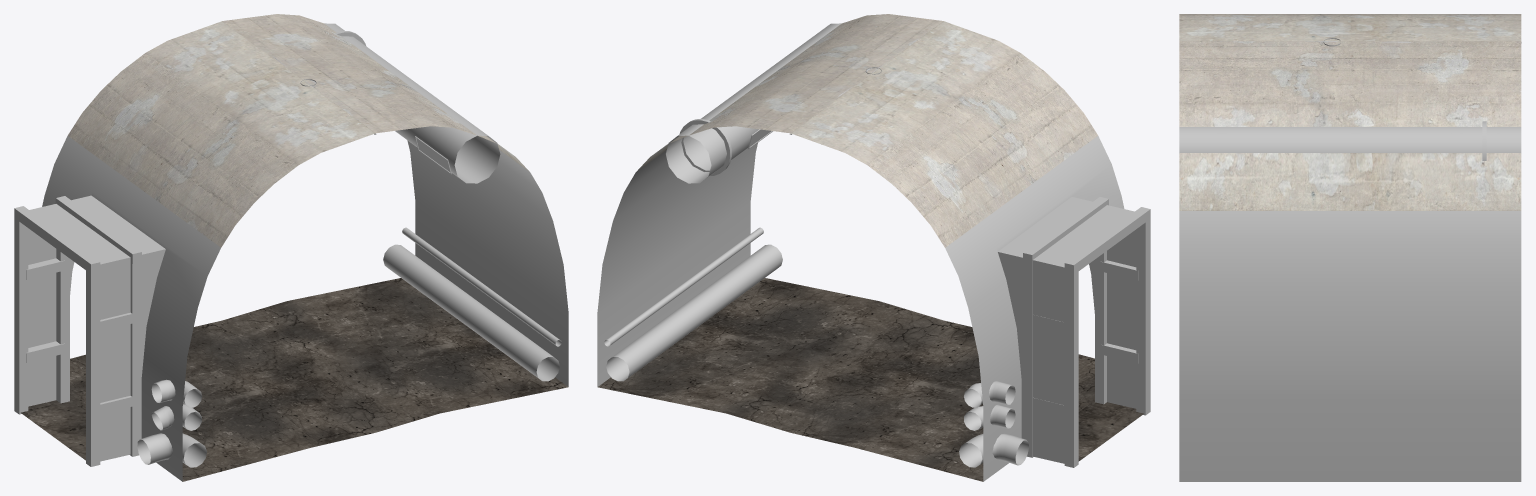
Rendered from Corridor_wal_door_R.FBX.
3 renders of one model, left to right at view 1: azimuth 30°, elevation 25°; view 2: azimuth 150°, elevation 25°; view 3: azimuth 270°, elevation 25°, orthographic. The views are drawn at different scales.
Visible parts, largest first — view 1: Corridor_wall_door_R, Corridor_floor_door_R, Door_plank_corridor, Tube020, Tube_big_vent003, Object014, Object015, Tube_paint013; view 2: Corridor_wall_door_R, Corridor_floor_door_R, Door_plank_corridor, Tube020, Tube_big_vent003, Object012, Object013, Tube_paint013; view 3: Corridor_wall_door_R, Tube_big_vent003.
Boxes of the visible parts, x1,y1,x2,y2 form: Corridor_wall_door_R: (28, 14, 568, 481); Corridor_floor_door_R: (21, 278, 568, 481); Door_plank_corridor: (14, 196, 141, 466); Tube020: (383, 244, 559, 381); Tube_big_vent003: (324, 23, 500, 183); Object014: (151, 379, 202, 430); Object015: (137, 433, 206, 467); Tube_paint013: (402, 227, 561, 346); Corridor_wall_door_R: (597, 14, 1136, 481); Corridor_floor_door_R: (598, 278, 1143, 481); Door_plank_corridor: (1023, 197, 1150, 467); Tube020: (606, 244, 782, 381); Tube_big_vent003: (666, 23, 841, 183); Object012: (964, 380, 1015, 430); Object013: (959, 433, 1028, 467); Tube_paint013: (604, 227, 763, 346); Corridor_wall_door_R: (1179, 14, 1521, 481); Tube_big_vent003: (1179, 121, 1521, 160).
Size of the model in its own units: 569 by 375 by 345.
